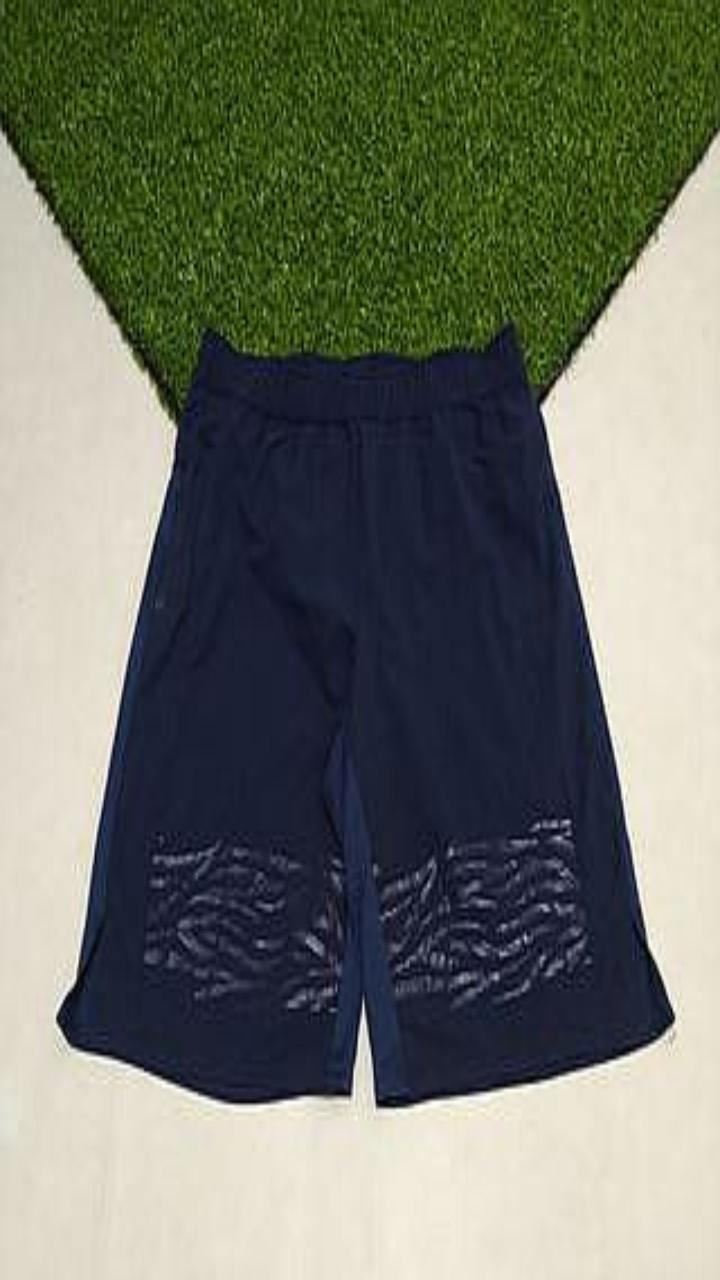Shorts: (57, 323, 673, 1105)
